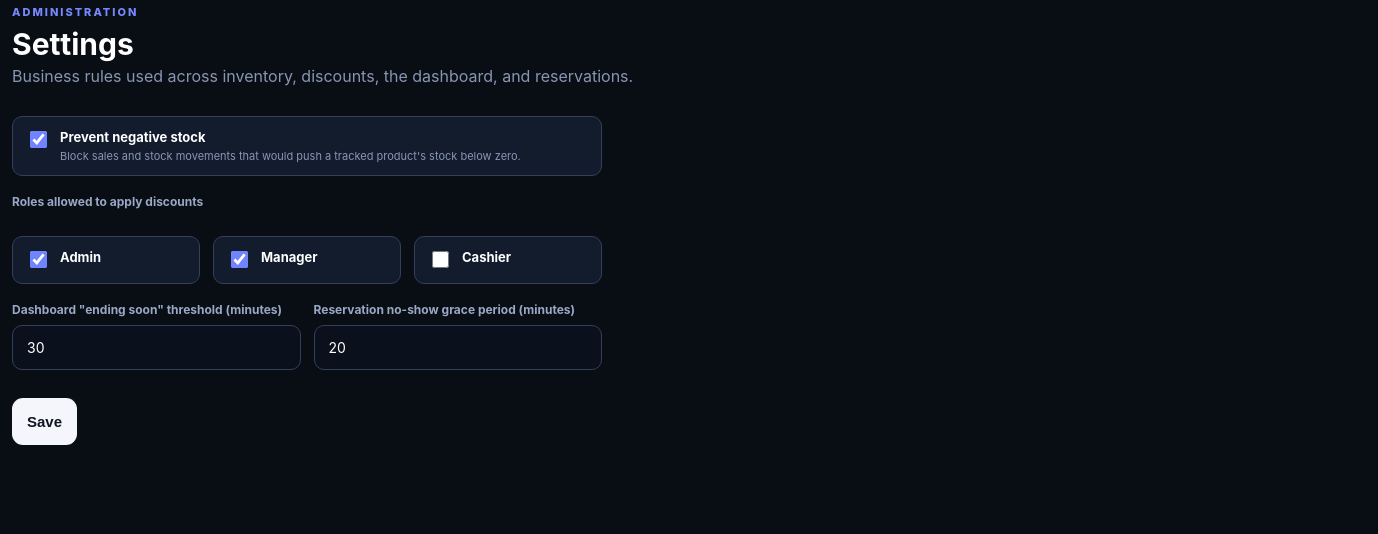
Test: SettingsPage › saves the edited settings
What coordinates should you click on to do the following:
click the checkbox labelled "Prevent negative stock"
I would click on:
 (38, 140)
Its box is x1=30 y1=131 x2=47 y2=148.
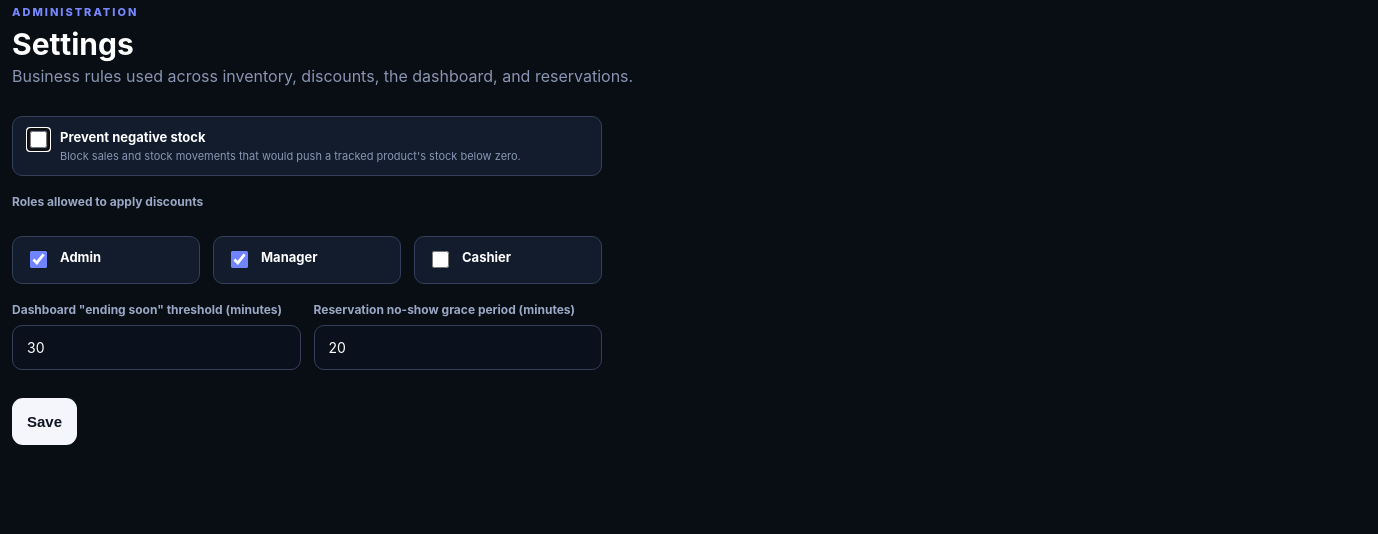
What coordinates should you click on to do the following:
click the checkbox labelled "Cashier"
I would click on:
 (440, 260)
Its box is x1=432 y1=251 x2=449 y2=268.
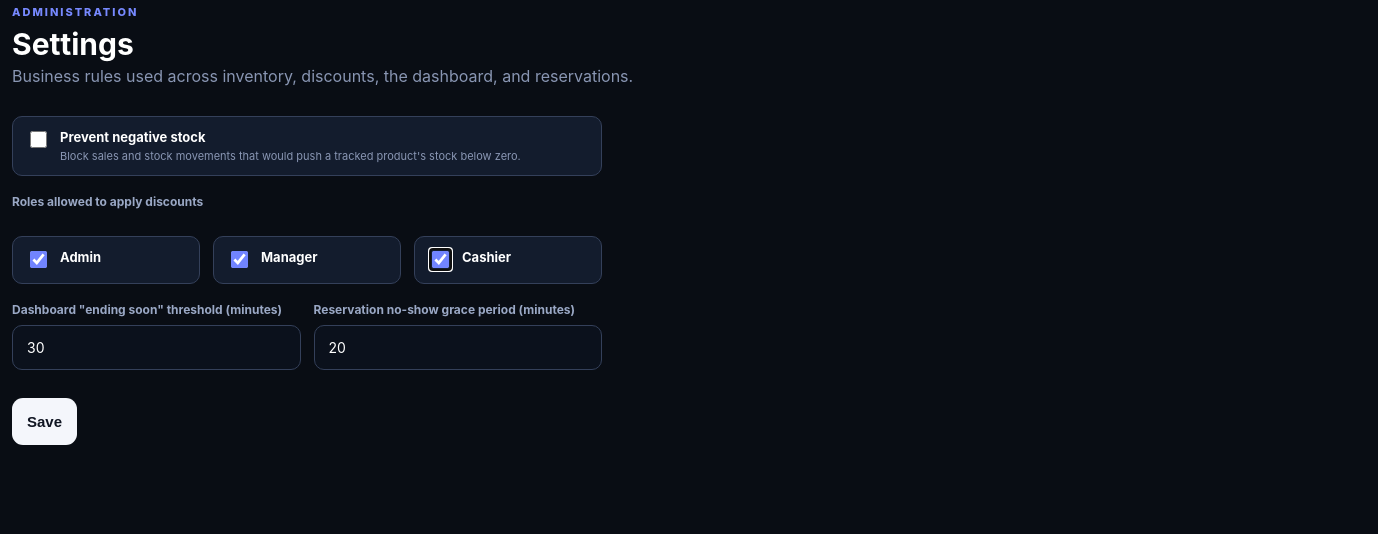
What coordinates should you click on to do the following:
click the button "Save"
I would click on:
 (44, 422)
Its box is x1=12 y1=398 x2=77 y2=445.
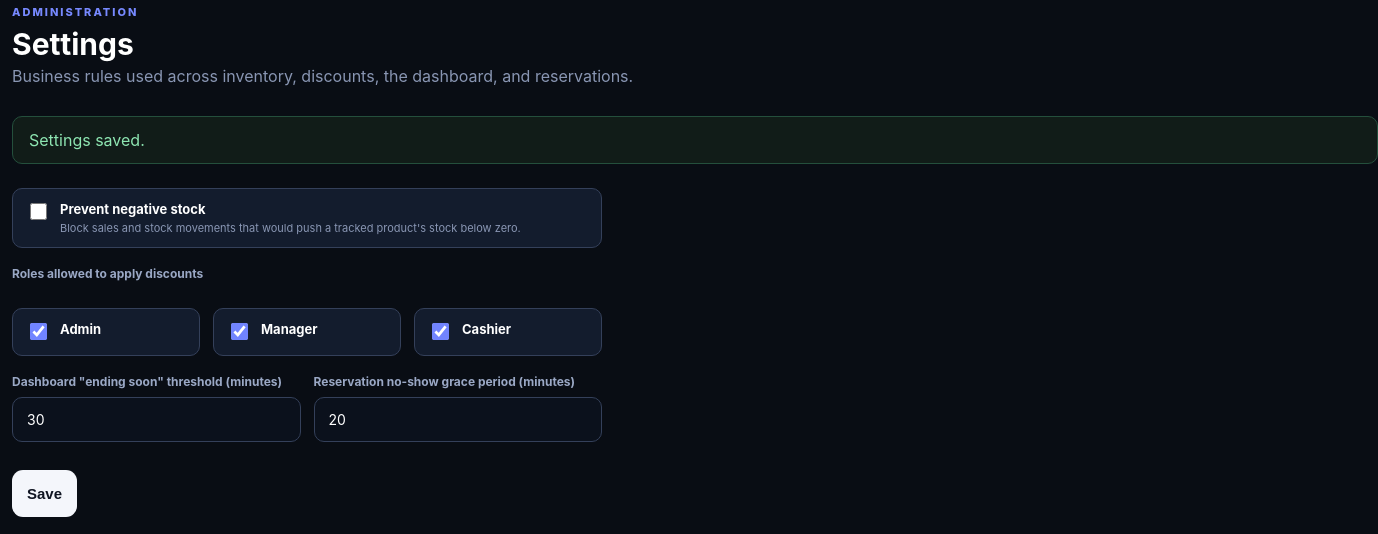
expect the text "Settings saved." is shown: met, box x1=12 y1=116 x2=1377 y2=164
